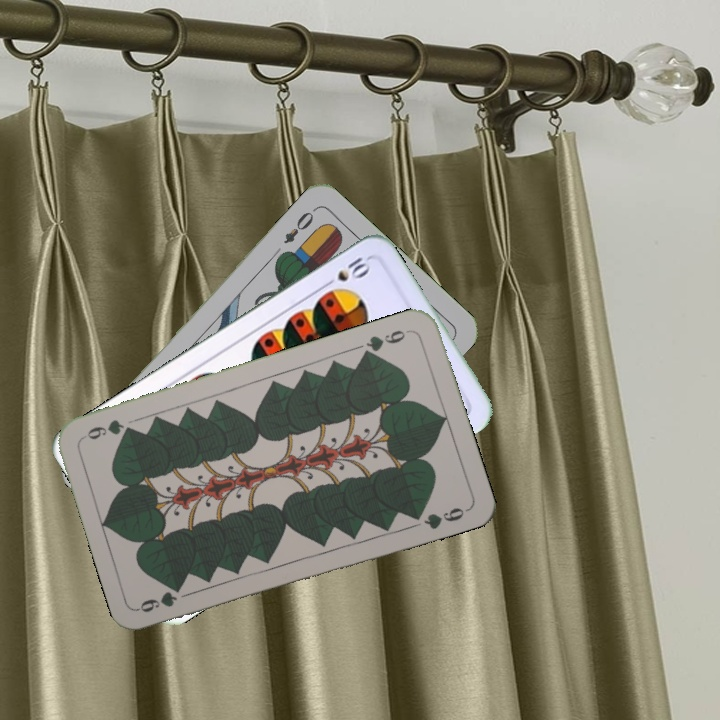EO: (279, 204, 319, 247)
G9: (358, 325, 413, 360), (135, 589, 180, 615)
S10: (318, 253, 374, 291)
